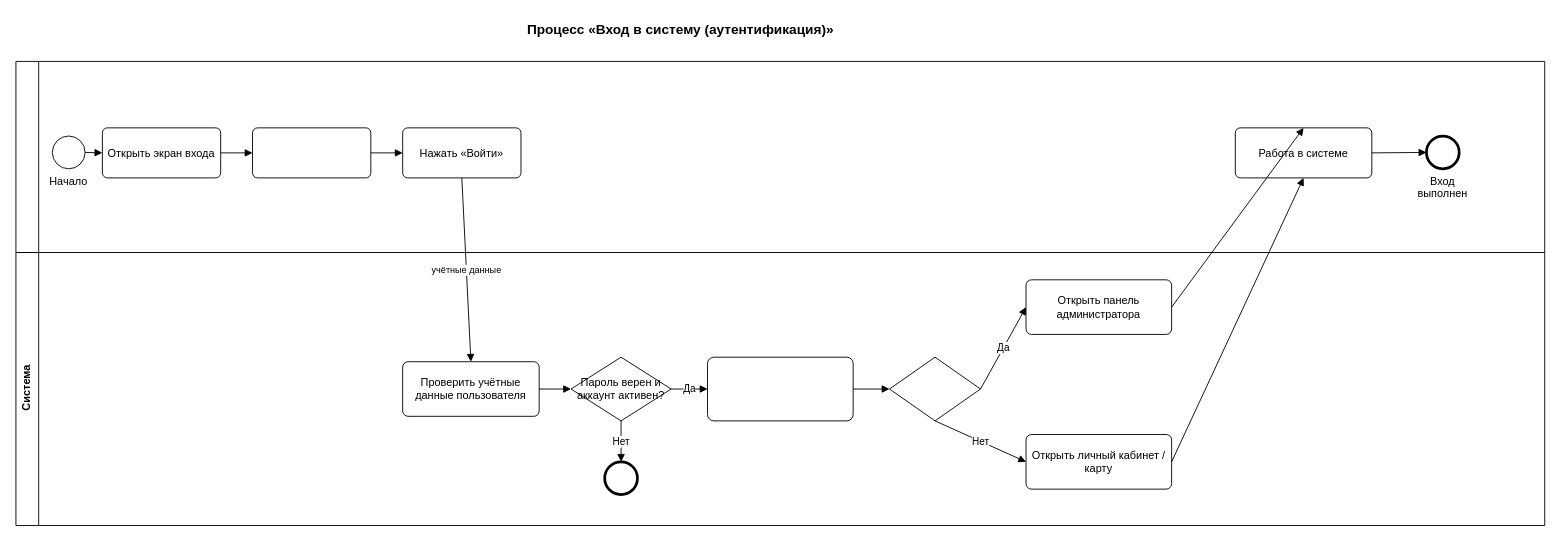
Image size: 1561x542. Some labels were removed from this diagram. Each missing label, with the box of its shape:
Ввести email и пароль: (252, 127, 371, 178)
Отказ в доступе: (603, 460, 638, 495)
Пользователь: (15, 61, 1545, 253)
Роль = администратор?: (889, 356, 981, 421)
Создать пользовательскую сессию: (707, 356, 853, 421)
